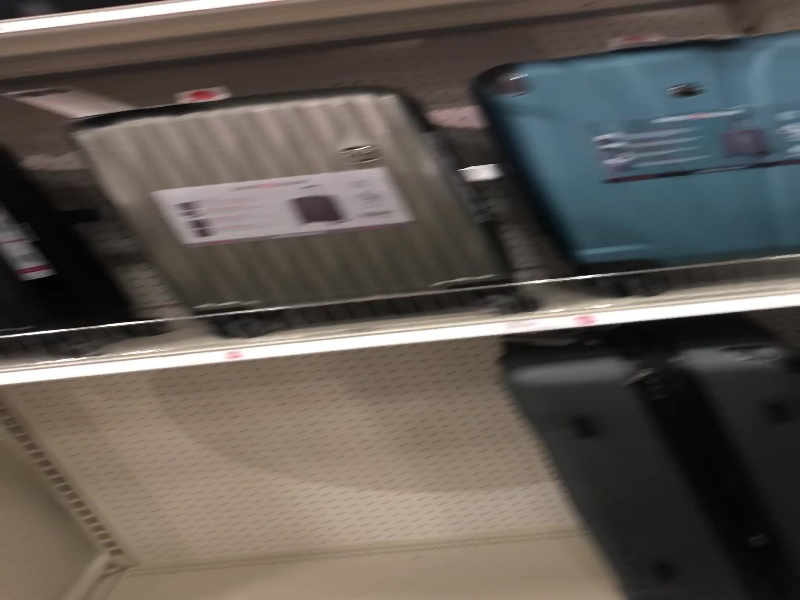void: (1, 342, 499, 600)
